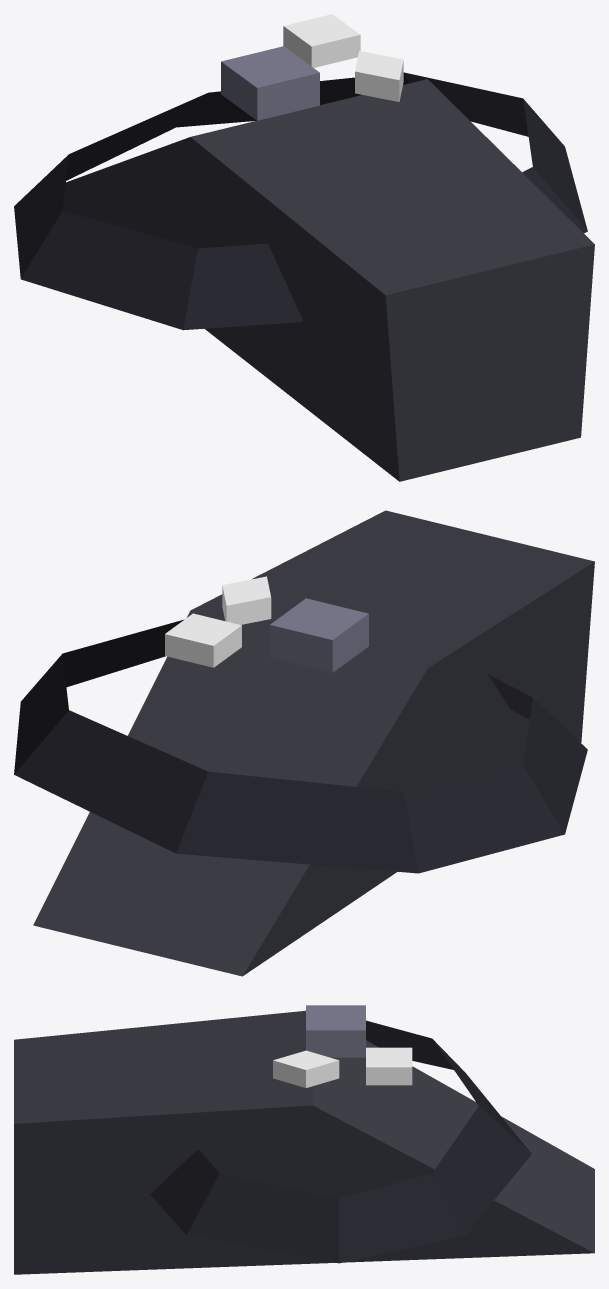
File: psvr2_sense_left.obj
3 views of the same model, one above another, from view 1: azimuth 30°, elevation 25°; view 2: azimuth 150°, elevation 25°; view 3: azimuth 270°, elevation 25° (orthographic). The views are drawn at different scales.
Visible parts, largest first — view 1: psvr2_sense_left; view 2: psvr2_sense_left; view 3: psvr2_sense_left.
Part boxes in pixels (x1,y1,x2,y2): psvr2_sense_left: [14, 14, 594, 481]; psvr2_sense_left: [14, 510, 594, 976]; psvr2_sense_left: [14, 1005, 594, 1274].
Bounding box in the file's own units: 0.156 × 0.07 × 0.175.
Materials: 1 (1 with a texture image).
